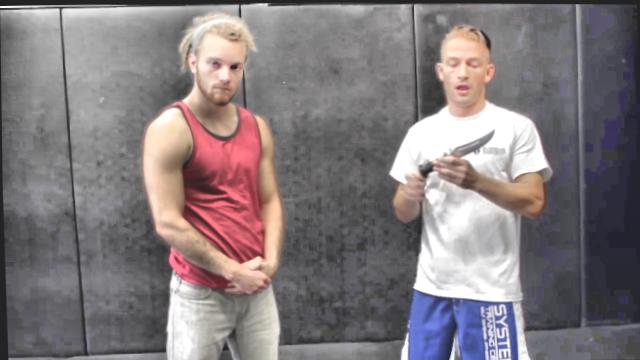knife: (411, 123, 503, 181)
